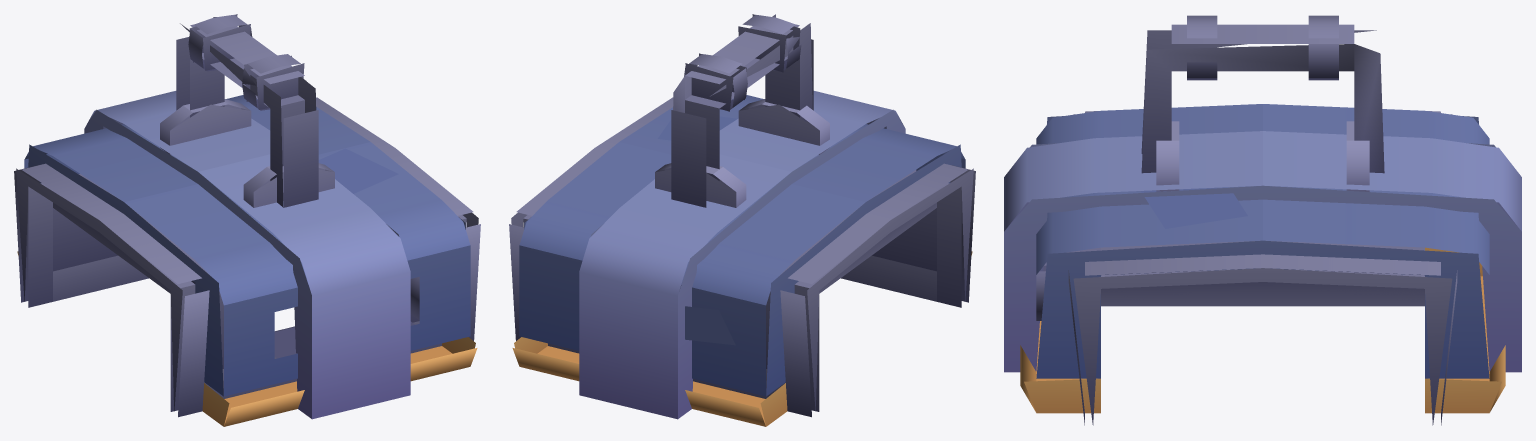
Rendered from SU_Pillbox_LOD1.glb.
3 views of the same model, side by side, from view 1: azimuth 30°, elevation 25°; view 2: azimuth 150°, elevation 25°; view 3: azimuth 270°, elevation 25° (orthographic). The views are drawn at different scales.
Visible parts, largest first — view 1: machine-fortified, scanner-low; view 2: machine-fortified, scanner-low; view 3: machine-fortified, scanner-low.
Part boxes in pixels (<box>): machine-fortified: <box>14,91,480,426</box>; scanner-low: <box>160,14,334,207</box>; machine-fortified: <box>509,91,975,426</box>; scanner-low: <box>655,14,829,207</box>; machine-fortified: <box>1004,104,1521,425</box>; scanner-low: <box>1141,15,1384,191</box>.
Size of what is drawn, in the model's own units: 2.04 by 1.86 by 2.72.
Materials: 2 (2 with a texture image).
